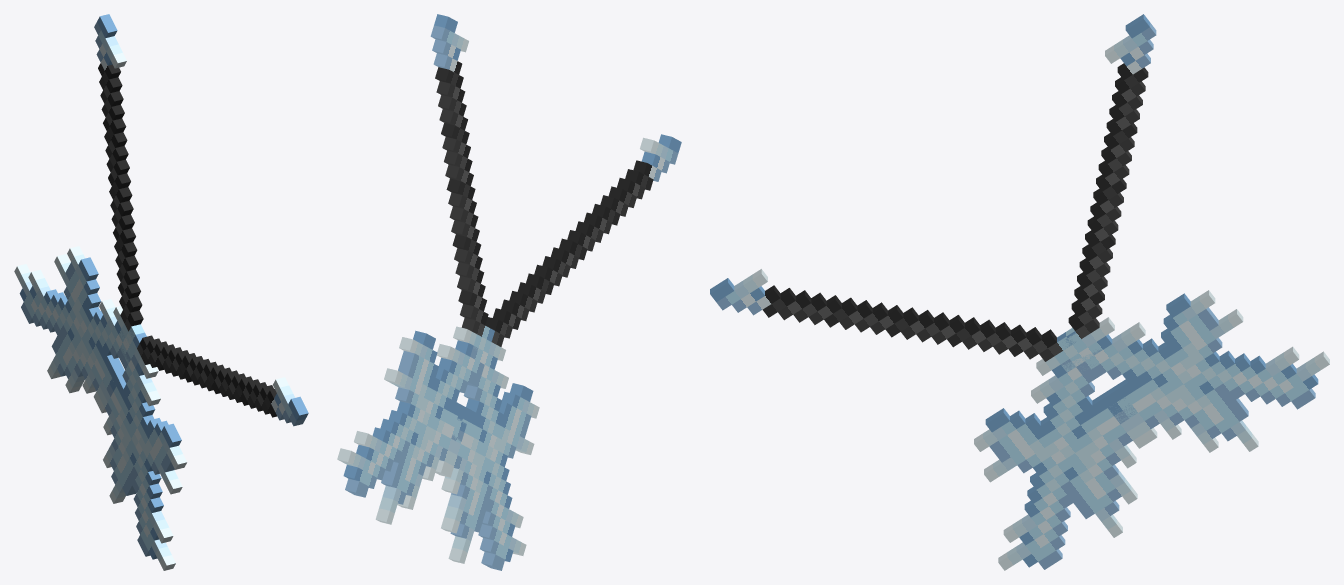
The model's file is dragon_ice_concavehalberd.glb.
3 renders of one model, left to right at view 1: azimuth 30°, elevation 25°; view 2: azimuth 150°, elevation 25°; view 3: azimuth 270°, elevation 25°, orthographic. The views are drawn at different scales.
Visible parts, largest first — view 1: off__Tool_L, main__Tool_R; view 2: main__Tool_R, off__Tool_L; view 3: main__Tool_R, off__Tool_L.
Part boxes in pixels (bbox=[...]): off__Tool_L: bbox=[94, 14, 187, 570]; main__Tool_R: bbox=[14, 246, 308, 426]; main__Tool_R: bbox=[337, 134, 681, 524]; off__Tool_L: bbox=[430, 14, 539, 570]; main__Tool_R: bbox=[710, 269, 1329, 452]; off__Tool_L: bbox=[974, 14, 1156, 570].
Size of the model in its own units: 0.0625 by 3.24 by 3.29.
1 material, 1 textured.
